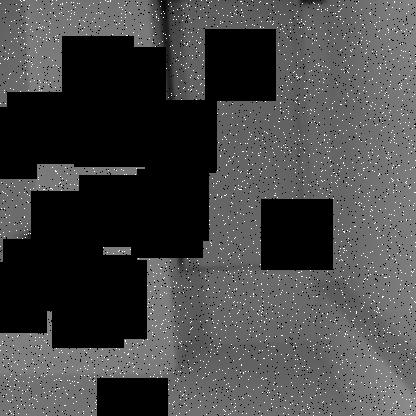Porte: (158, 0, 320, 283)
